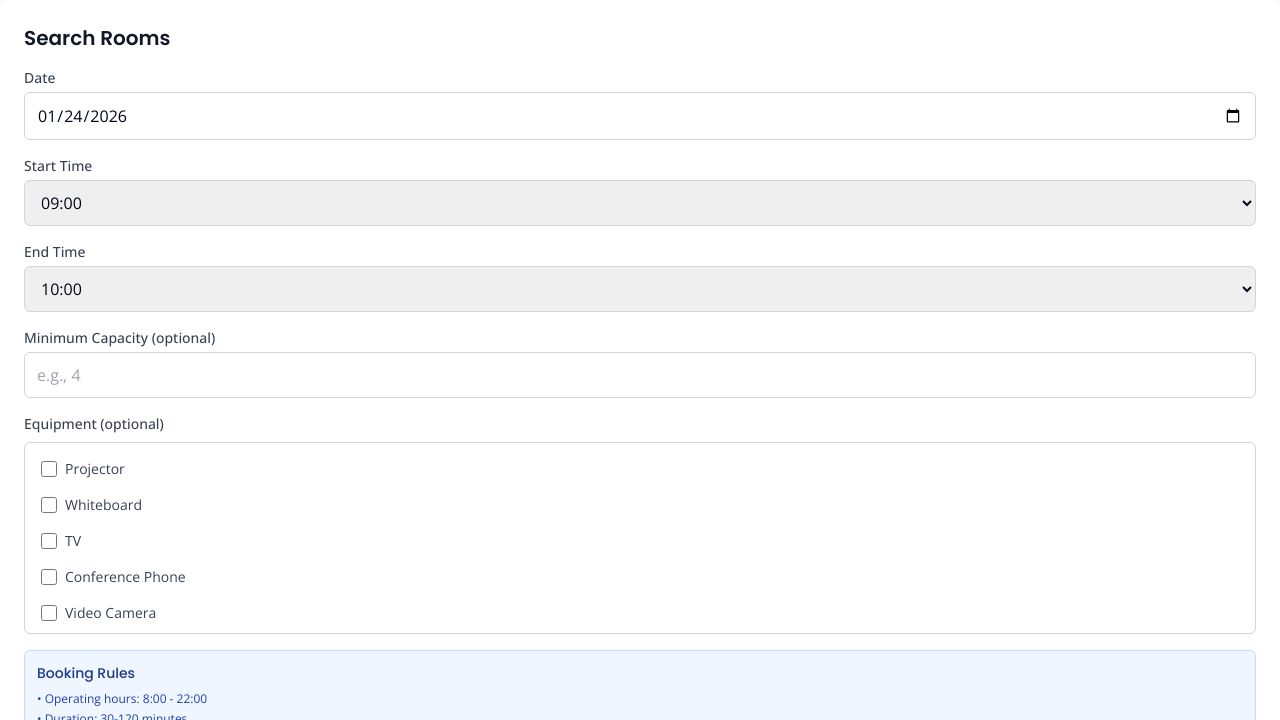
Test: SearchPanel › validates that end time is after start time
// Select a valid end time first
Select "09:00" in the dropdown labelled "Start Time": (640, 203) left=24, top=180, right=1256, bottom=226
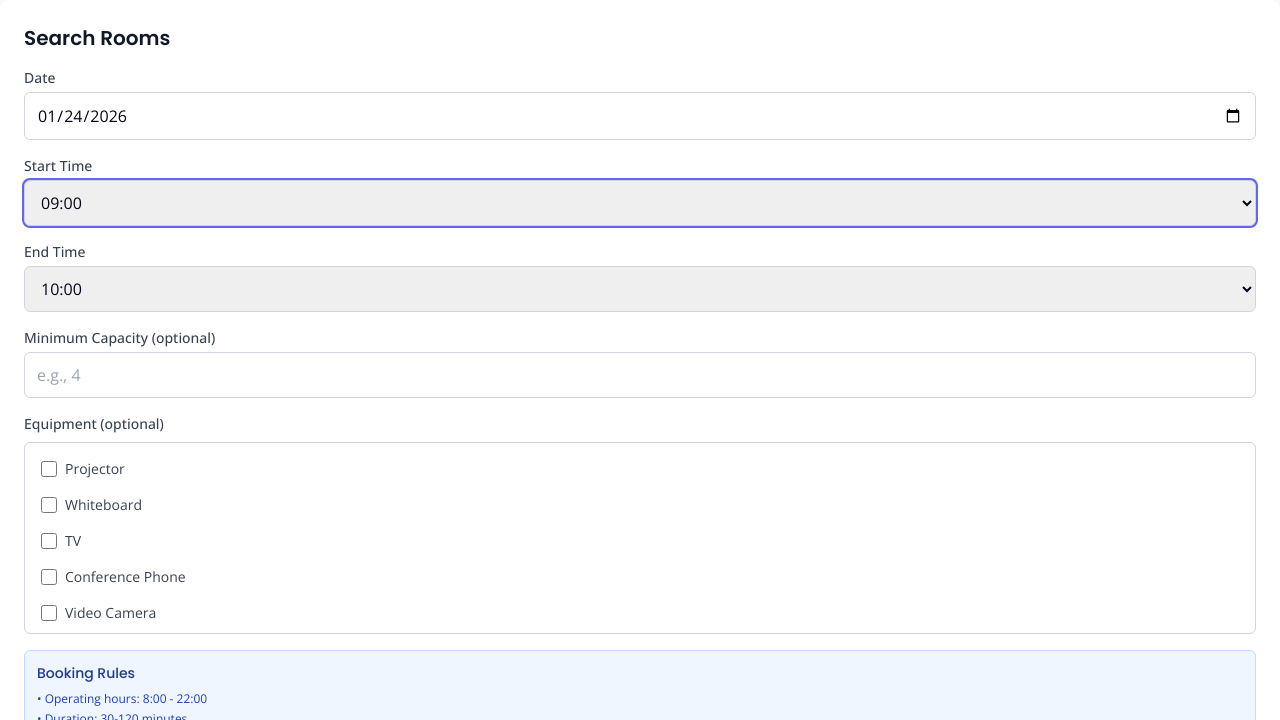
Select "10:00" in the dropdown labelled "End Time": (640, 289) left=24, top=266, right=1256, bottom=312
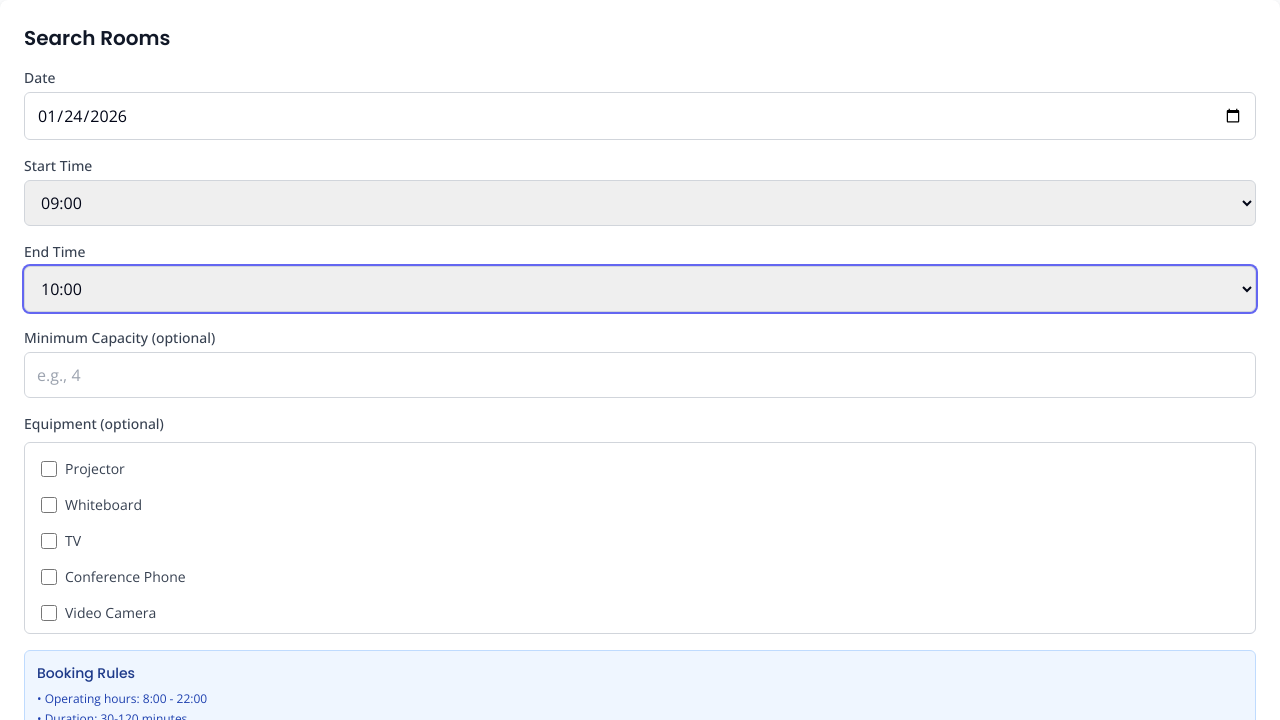
// Now change start time to be after end time
Select "11:00" in the dropdown labelled "Start Time": (640, 203) left=24, top=180, right=1256, bottom=226
(page scrolled)
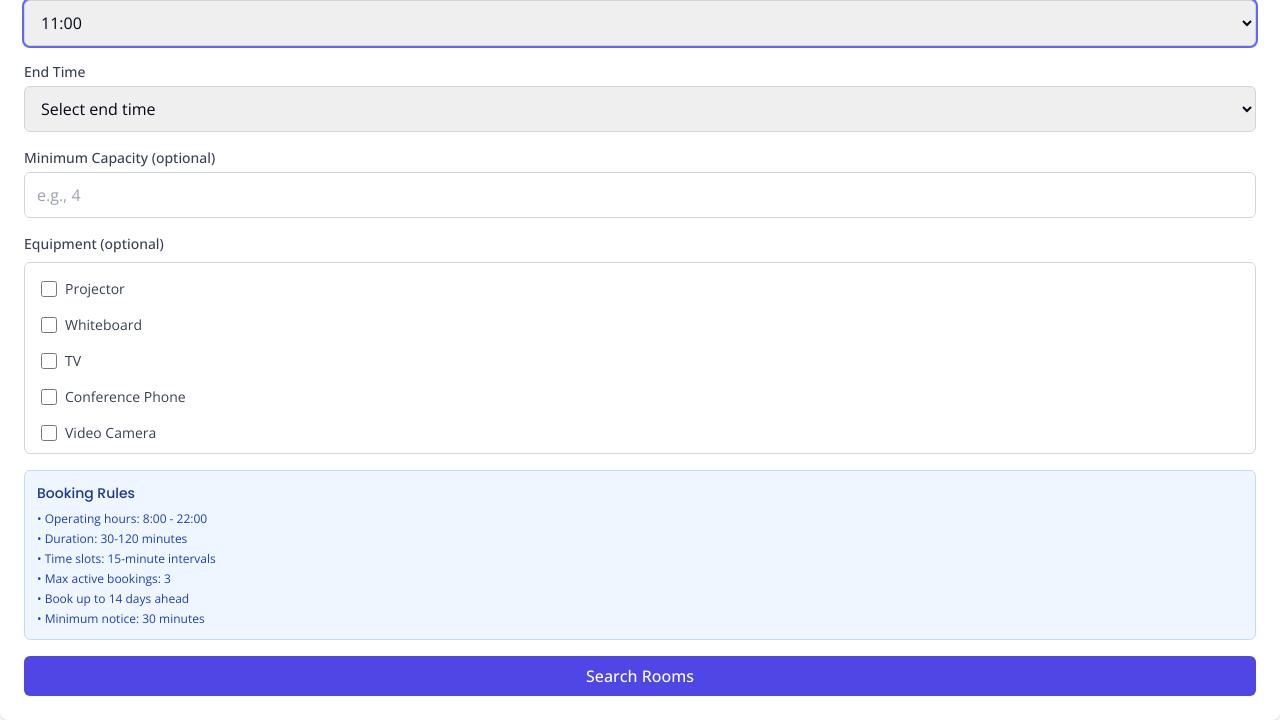
Click the button "Search Rooms": (640, 676) left=24, top=656, right=1256, bottom=696
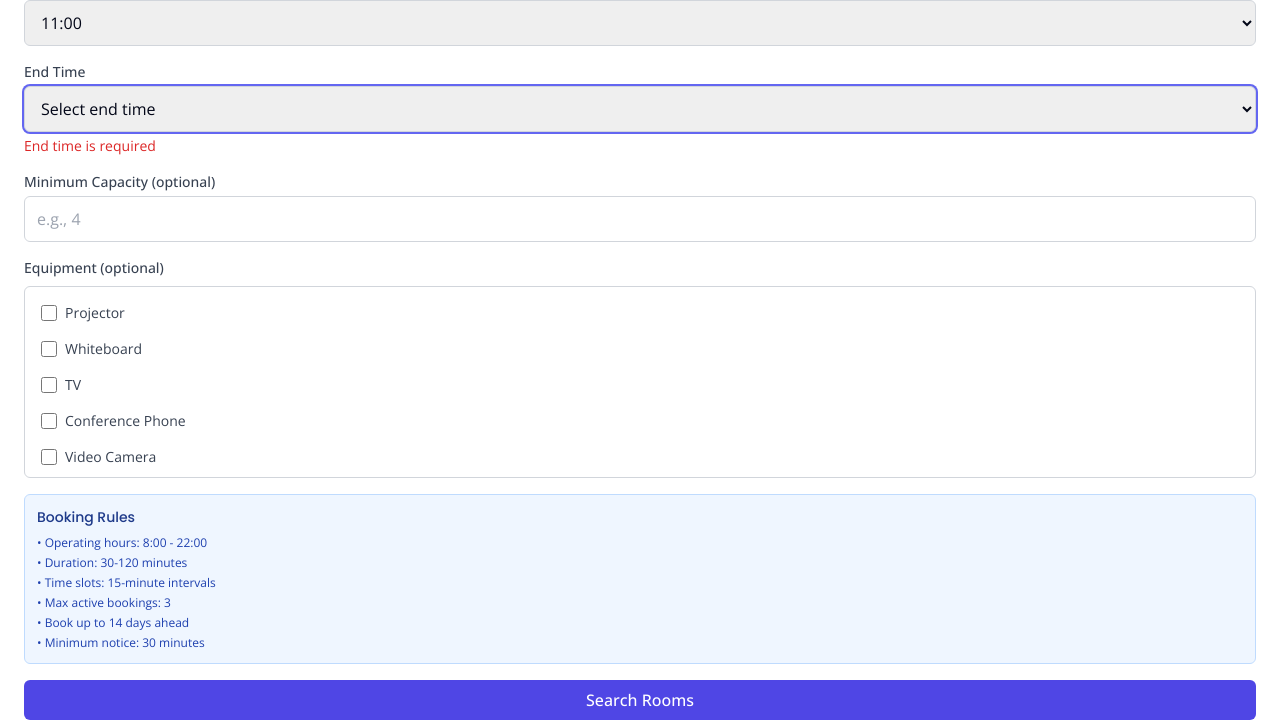
Result: the text "End time is required" is shown at left=24, top=136, right=156, bottom=155
